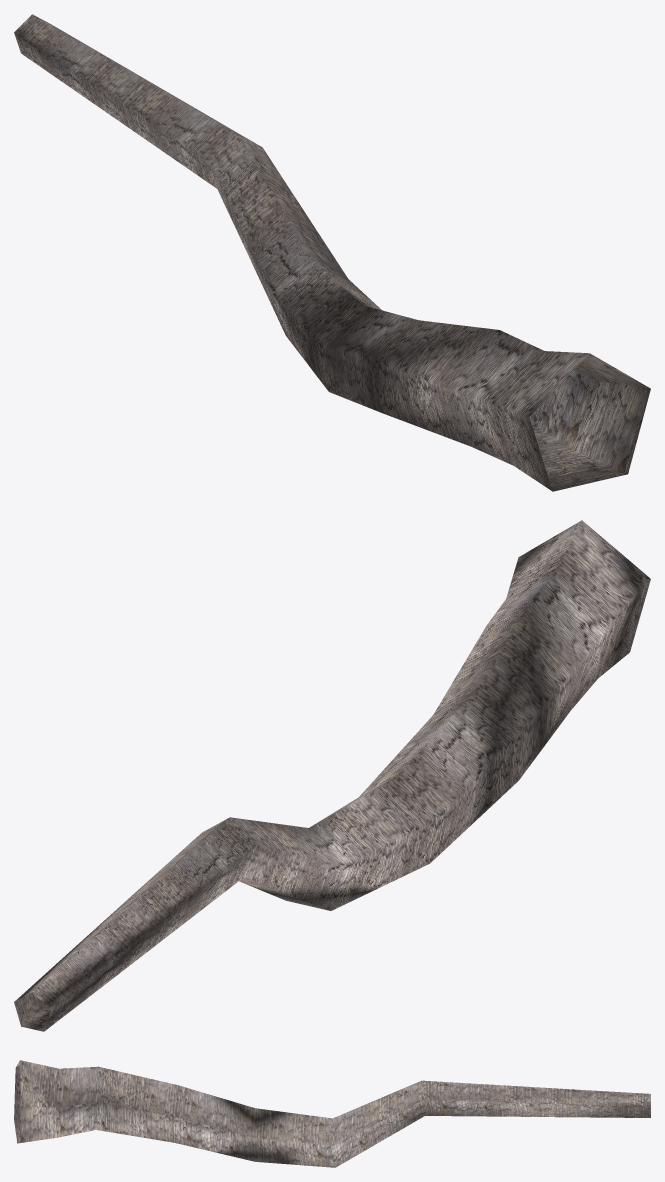
File: baum_hd_trunk.obj
The picture shows the model from 3 angles, top to bottom: view 1: azimuth 30°, elevation 25°; view 2: azimuth 150°, elevation 25°; view 3: azimuth 270°, elevation 25°; orthographic projection. The views are drawn at different scales.
Parts seen in each view (by area): view 1: baum_hd_baum_hd.003; view 2: baum_hd_baum_hd.003; view 3: baum_hd_baum_hd.003.
Part boxes in pixels (box(x1,y1,x2,y2)): baum_hd_baum_hd.003: box(14, 14, 650, 491); baum_hd_baum_hd.003: box(14, 520, 650, 1031); baum_hd_baum_hd.003: box(14, 1060, 650, 1167).
Bounding box in the file's own units: 2.8 × 3.42 × 19.22.
